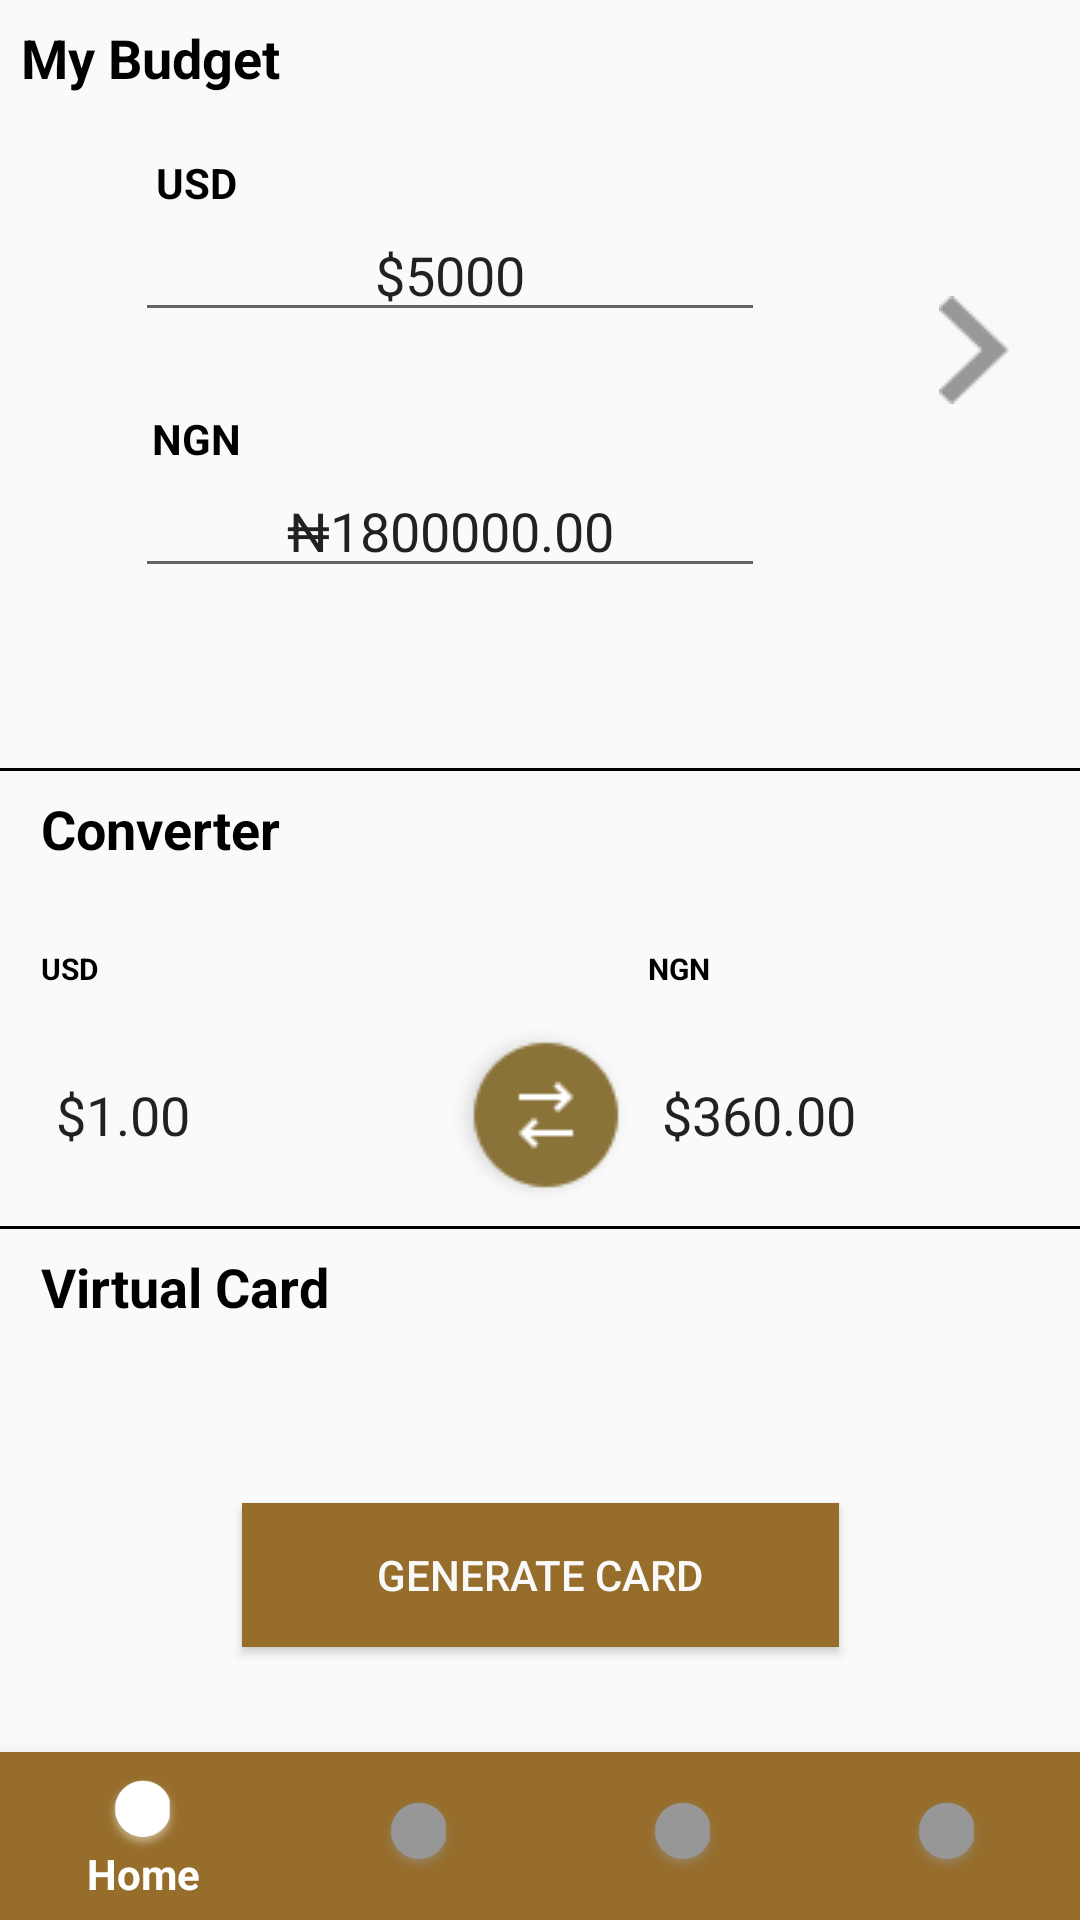

Icons on this 1080 x 1920 Android screen, each with the point to tap as point (x, y):
chevron right: point (973, 350)
conversion: point (545, 1115)
